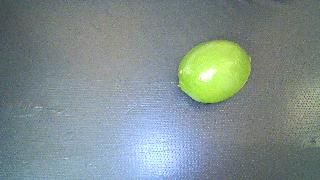EXPORTACION: (178, 40, 251, 103)
